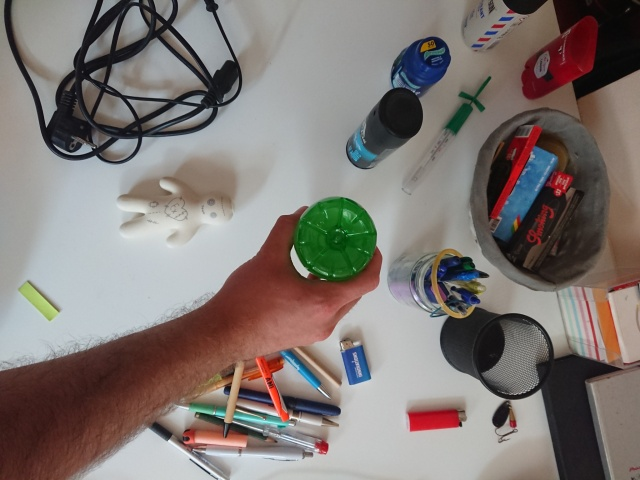Vindi Iso Sport Lemon-Grapefruit 500mL: (291, 194, 380, 284)
